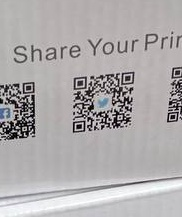2d: (72, 71, 135, 133)
